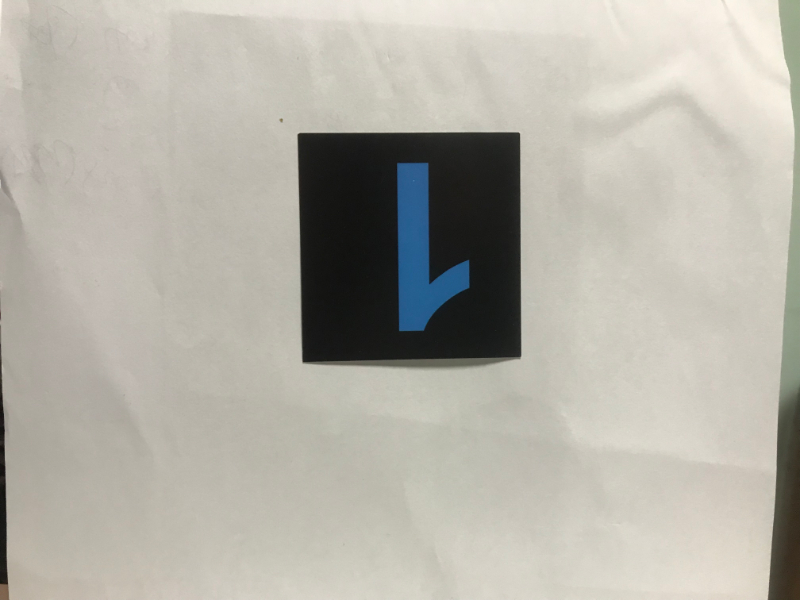One-6: (307, 138, 515, 353)
